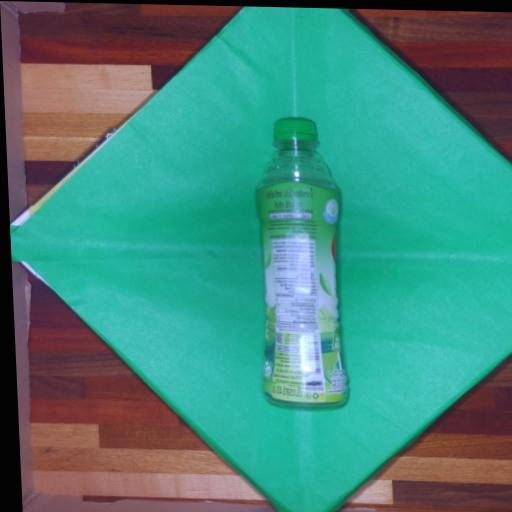bottle: (256, 118, 347, 406)
